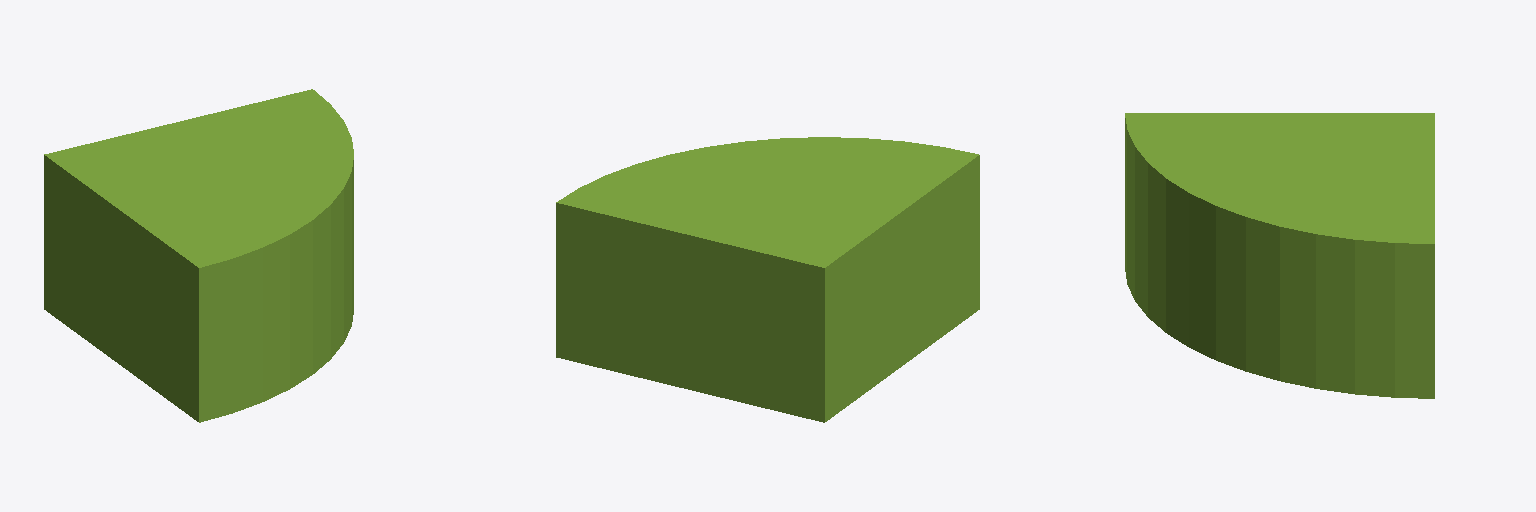
3 views of the same model, side by side, from view 1: azimuth 30°, elevation 25°; view 2: azimuth 150°, elevation 25°; view 3: azimuth 270°, elevation 25° (orthographic).
Parts seen in each view (by area): view 1: roadTile_028.001; view 2: roadTile_028.001; view 3: roadTile_028.001.
Part boxes in pixels (left/top/right/bottom): roadTile_028.001: left=44, top=89, right=353, bottom=422; roadTile_028.001: left=556, top=137, right=979, bottom=422; roadTile_028.001: left=1125, top=113, right=1434, bottom=398.
Size of the model in its own units: 3 by 1.65 by 3.